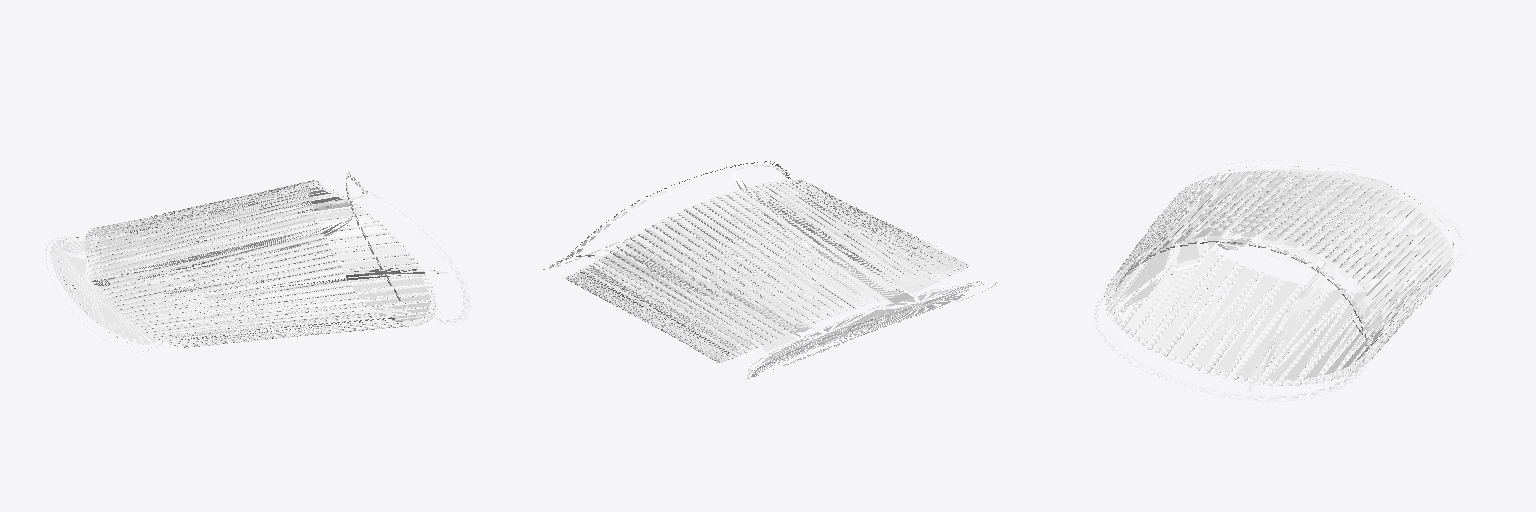
The model's file is bottle_cap_tall.001.obj.
3 renders of one model, left to right at view 1: azimuth 30°, elevation 25°; view 2: azimuth 150°, elevation 25°; view 3: azimuth 270°, elevation 25°, orthographic.
Parts seen in each view (by area): view 1: bottle_cap_tall.001; view 2: bottle_cap_tall.001; view 3: bottle_cap_tall.001.
Boxes of the visible parts, x1,y1,x2,y2 form: bottle_cap_tall.001: [45, 172, 470, 352]; bottle_cap_tall.001: [543, 161, 996, 378]; bottle_cap_tall.001: [1094, 159, 1465, 401].
Bounding box in the file's own units: 0.0464 × 0.0119 × 0.0381.